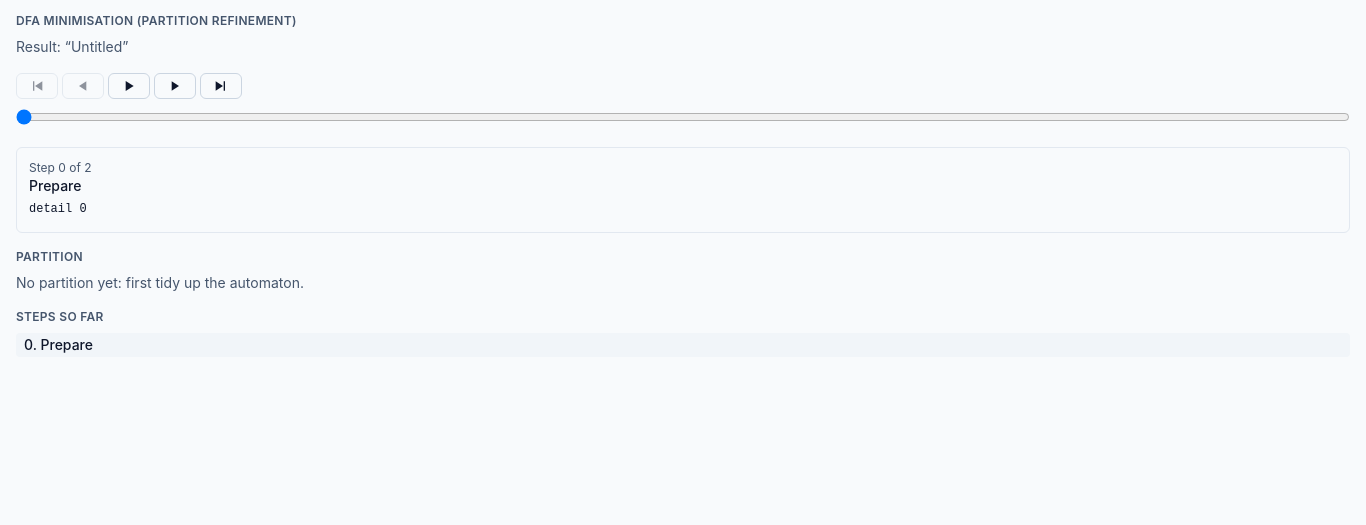
partition view › flags blocks created by a split as new
Click the button named "Last step" at (221, 86), box left=200, top=73, right=242, bottom=99
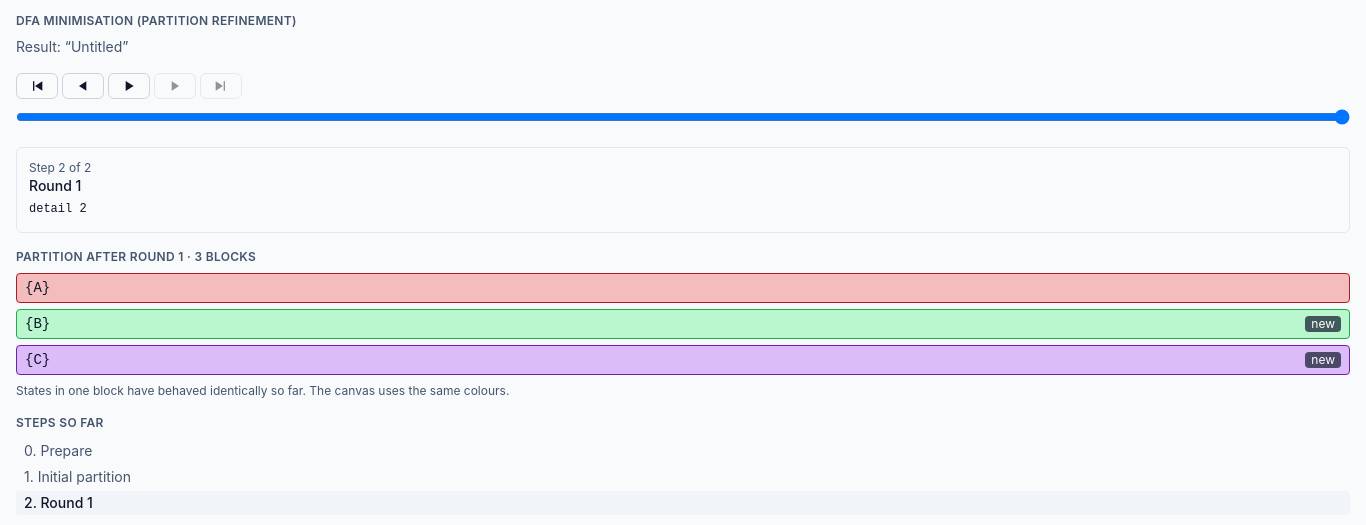
Now the heading "Partition after round 1 · 3 blocks" is shown, box left=16, top=248, right=256, bottom=264
